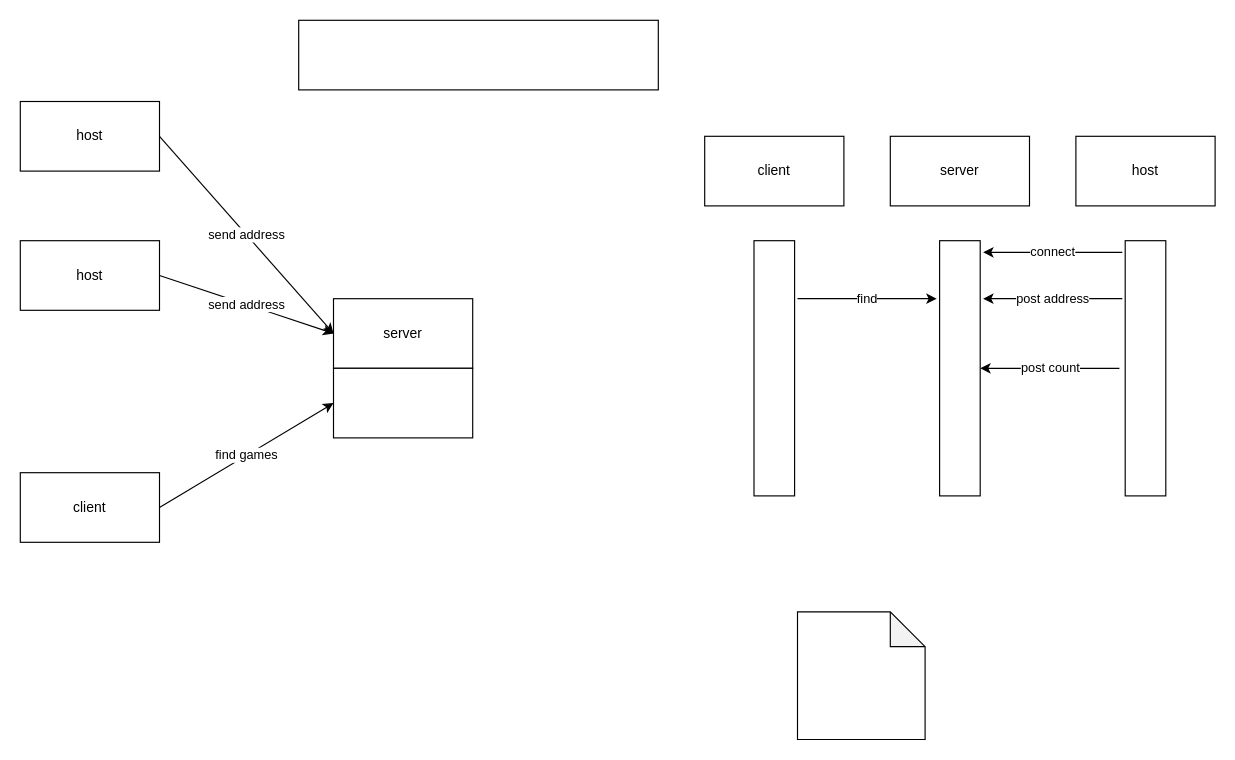
Image size: 1235x760. Some labels were removed from this diagram. Here are the shapes that lost their labels. From the top down, the centre of each, then its label:
pixel 478 54: List<int id, int count, string Address>
pixel 402 402: addressList
pixel 860 675: for each in List if count < max connect()
